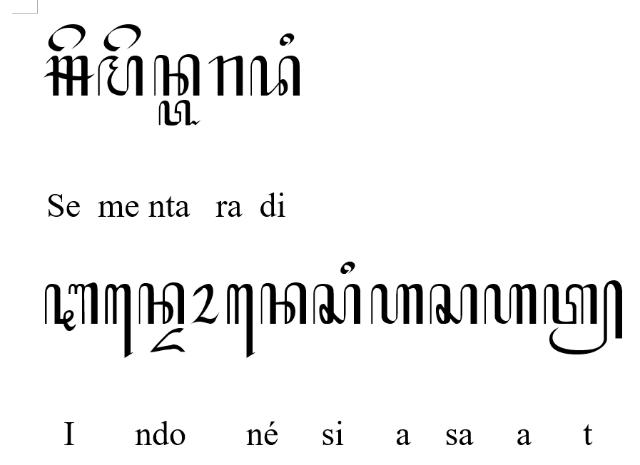-t: (542, 279, 624, 355)
I: (43, 282, 99, 332)
S: (44, 54, 94, 96)
_d: (150, 327, 184, 353)
_t: (158, 99, 202, 125)
d: (250, 54, 302, 98)
e: (104, 22, 142, 51), (48, 24, 86, 52)
e1: (105, 283, 134, 359)
h: (483, 282, 537, 326), (371, 282, 424, 324)
i: (340, 260, 356, 276), (278, 32, 294, 46)
m: (98, 55, 144, 97)
n: (226, 283, 256, 359), (154, 53, 200, 97), (138, 282, 186, 324), (260, 283, 308, 325)
o: (190, 283, 220, 325)
r: (208, 55, 244, 97)
s: (313, 282, 361, 326), (428, 283, 478, 325)
